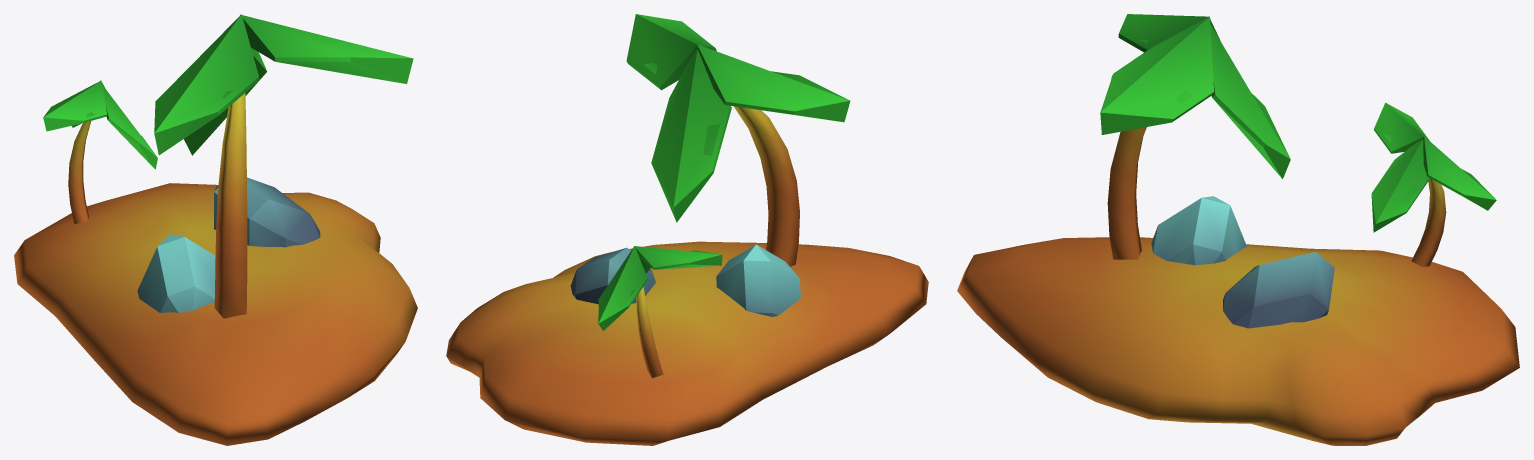
The model's file is остров .fbx.
3 views of the same model, side by side, from view 1: azimuth 30°, elevation 25°; view 2: azimuth 150°, elevation 25°; view 3: azimuth 270°, elevation 25° (orthographic). The views are drawn at different scales.
Parts seen in each view (by area): view 1: Cube.028; view 2: Cube.028; view 3: Cube.028.
Boxes of the visible parts, x1,y1,x2,y2 form: Cube.028: (14, 14, 417, 445); Cube.028: (446, 14, 928, 445); Cube.028: (957, 14, 1519, 445).
Bounding box in the file's own units: 873 × 842 × 1163.
